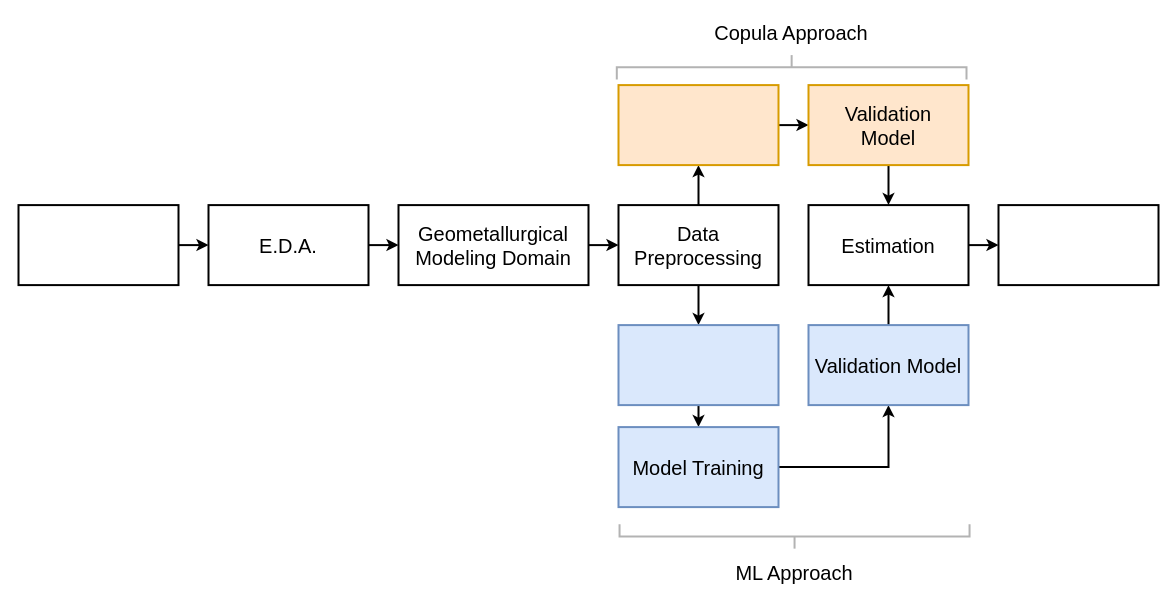
Some shapes in this 1176 by 604 pixel diagram are drawn without their labels. Each missing label, with the box of its shape:
Data Collection: (17, 204, 179, 286)
Dependency Modeling: (617, 84, 779, 166)
Results Comparisons: (997, 204, 1159, 286)
Split Data: (617, 324, 779, 406)
